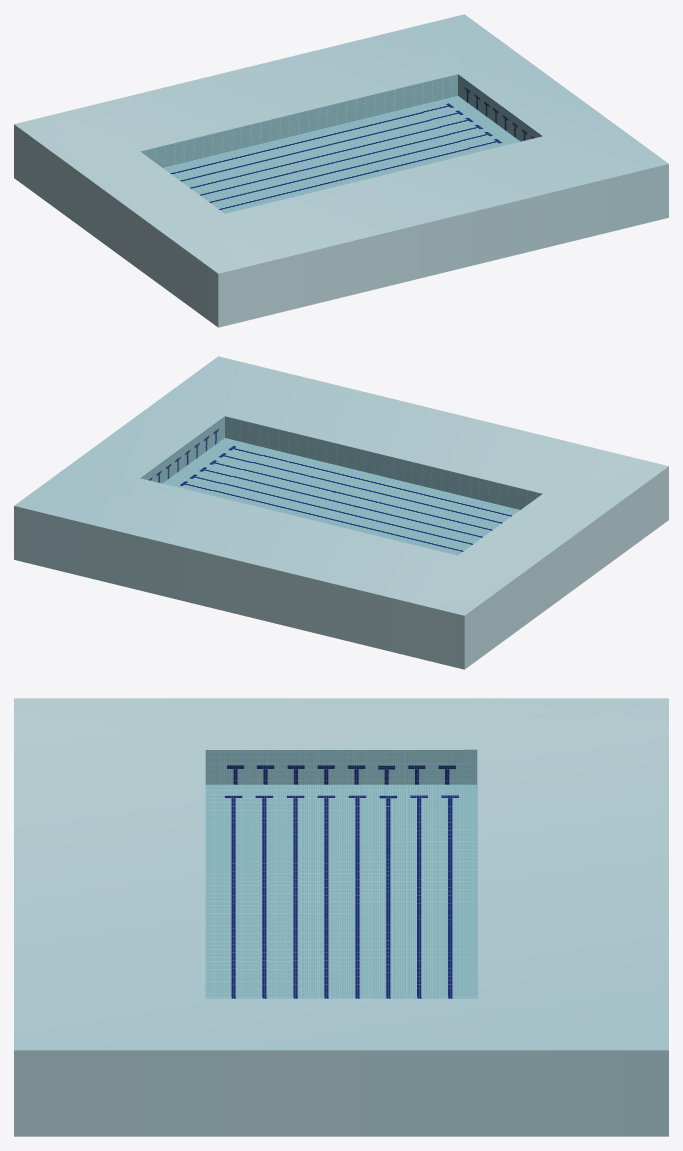
File: pool_v2_flat.dae
3 views of the same model, one above another, from view 1: azimuth 30°, elevation 25°; view 2: azimuth 150°, elevation 25°; view 3: azimuth 270°, elevation 25° (orthographic). The views are drawn at different scales.
Visible parts, largest first — view 1: Pool; view 2: Pool; view 3: Pool.
Boxes of the visible parts, box(x1,y1,x2,y2) form: Pool: box(14, 14, 668, 327); Pool: box(14, 356, 668, 669); Pool: box(14, 698, 668, 1136).
Size of the model in its own units: 70 by 55 by 8.03.
